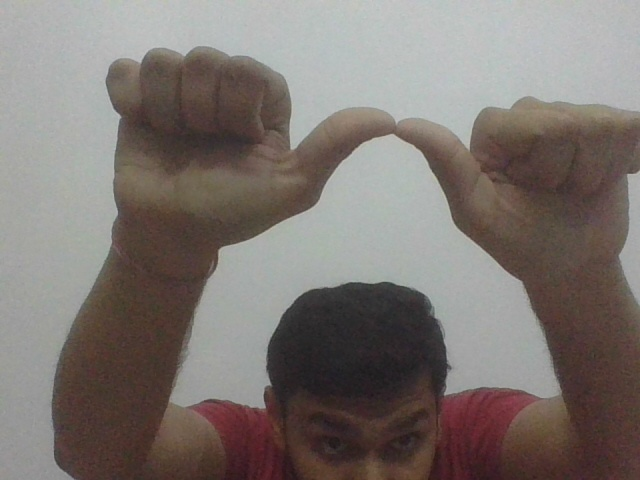A: (101, 48, 640, 235)
